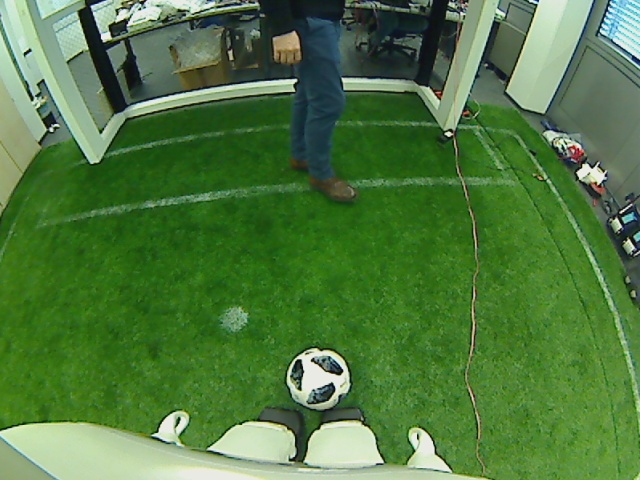ball: (284, 344, 352, 409)
